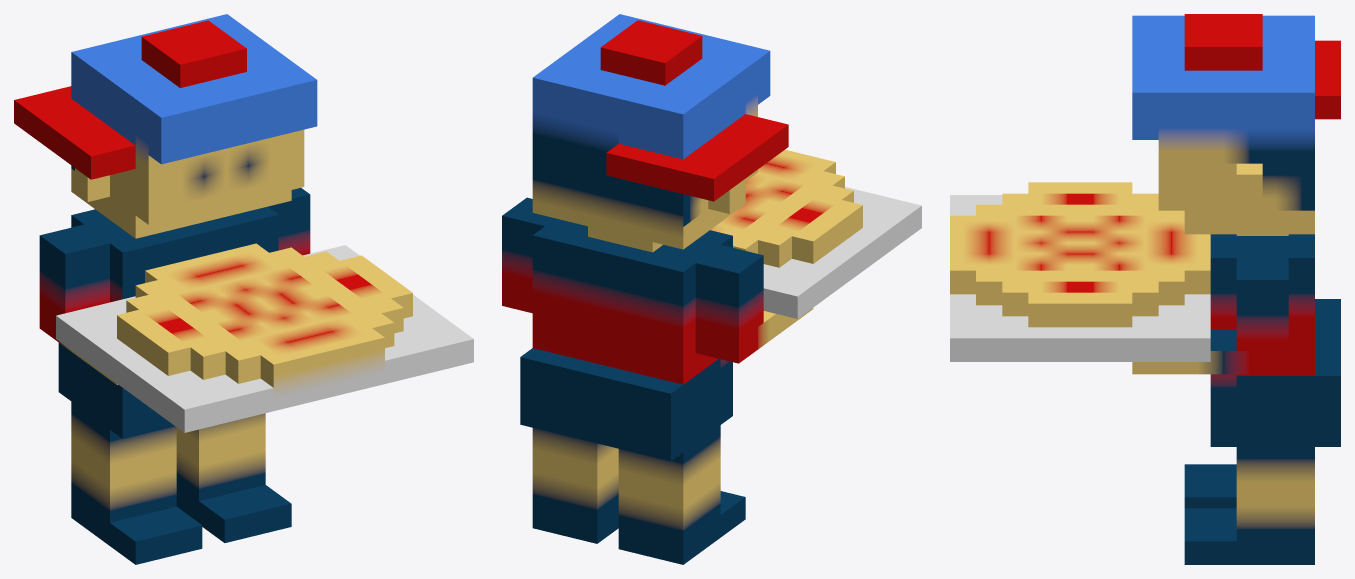
Rendered from Pizza_Man_007.dae.
3 views of the same model, side by side, from view 1: azimuth 30°, elevation 25°; view 2: azimuth 150°, elevation 25°; view 3: azimuth 270°, elevation 25° (orthographic). The views are drawn at different scales.
Parts seen in each view (by area): view 1: pizza_men_19; view 2: pizza_men_19; view 3: pizza_men_19.
Part boxes in pixels (x1,y1,x2,y2): pizza_men_19: (14, 14, 473, 564); pizza_men_19: (502, 14, 921, 564); pizza_men_19: (950, 14, 1340, 564).
Bounding box in the file's own units: 13 × 21 × 15.
1 material, 1 textured.
